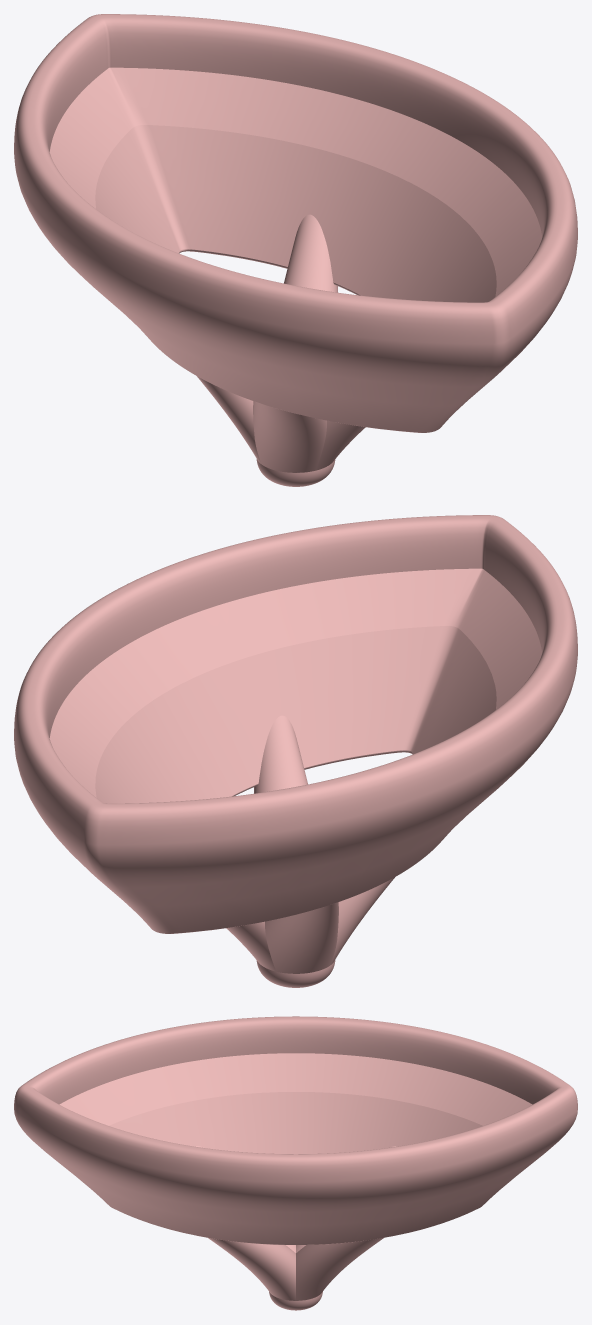
The model's file is MARQUISE.glb.
3 views of the same model, one above another, from view 1: azimuth 30°, elevation 25°; view 2: azimuth 150°, elevation 25°; view 3: azimuth 270°, elevation 25° (orthographic). The views are drawn at different scales.
Visible parts, largest first — view 1: Marquise; view 2: Marquise; view 3: Marquise.
Boxes of the visible parts, bbox=[...] form: Marquise: bbox=[14, 14, 577, 486]; Marquise: bbox=[14, 515, 577, 987]; Marquise: bbox=[14, 1016, 577, 1310].
Bounding box in the file's own units: 5.8 × 4.01 × 9.36.
